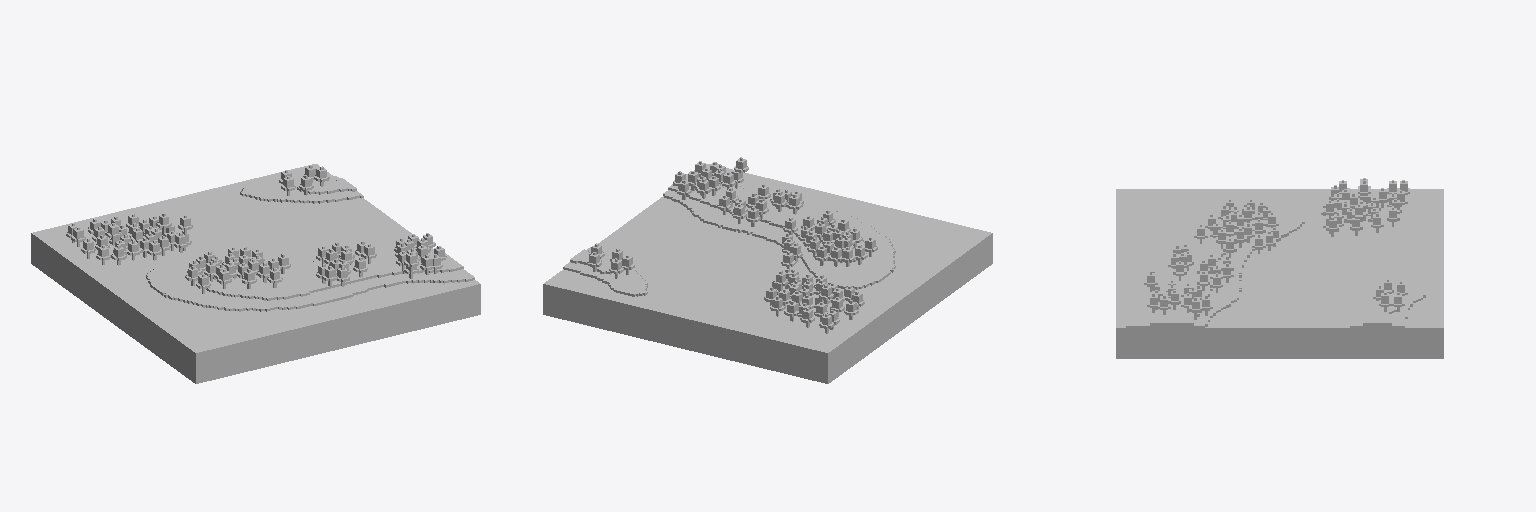
Rendered from Map (1).obj.
The picture shows the model from 3 angles: view 1: azimuth 30°, elevation 25°; view 2: azimuth 150°, elevation 25°; view 3: azimuth 270°, elevation 25°; orthographic projection.
Parts seen in each view (by area): view 1: ALL MAP!!!!!!!!!!!-35; view 2: ALL MAP!!!!!!!!!!!-35; view 3: ALL MAP!!!!!!!!!!!-35.
Boxes of the visible parts, box(x1,y1,x2,y2) form: ALL MAP!!!!!!!!!!!-35: box(31, 164, 480, 383); ALL MAP!!!!!!!!!!!-35: box(543, 157, 992, 383); ALL MAP!!!!!!!!!!!-35: box(1116, 178, 1443, 358).
Size of the model in its own units: 125 by 28 by 125.